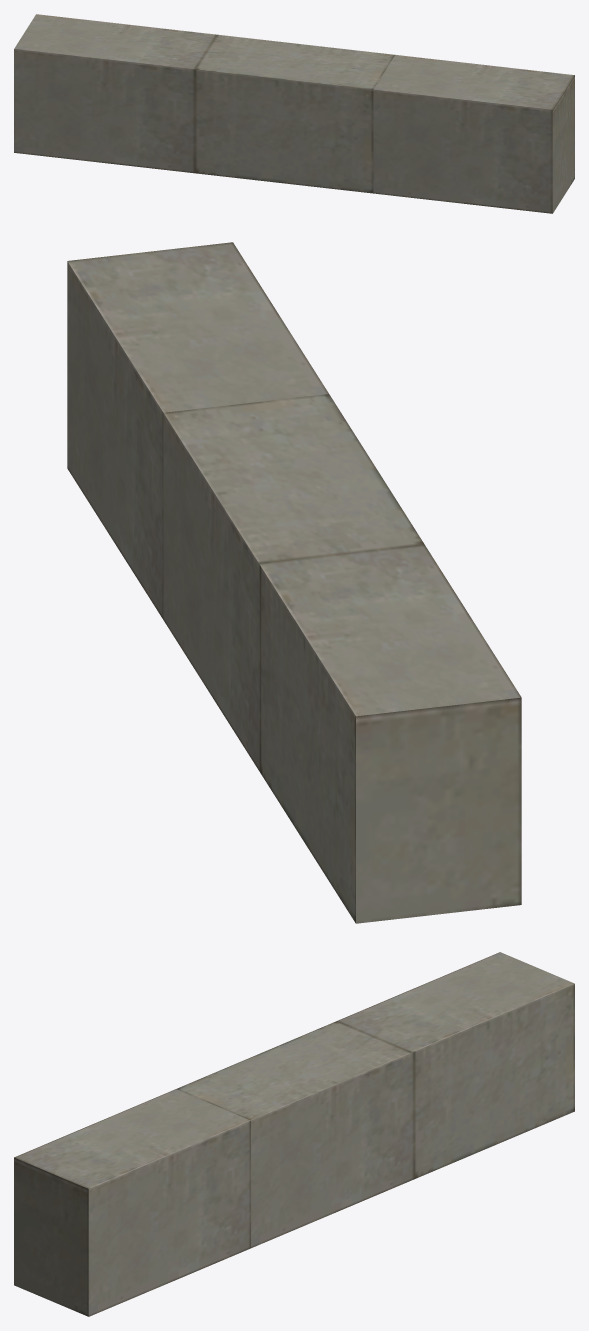
The picture shows the model from 3 angles, top to bottom: view 1: azimuth 30°, elevation 25°; view 2: azimuth 150°, elevation 25°; view 3: azimuth 270°, elevation 25°; orthographic projection. The views are drawn at different scales.
Visible parts, largest first — view 1: Joint_0_Object_0; view 2: Joint_0_Object_0; view 3: Joint_0_Object_0.
Part boxes in pixels (x1=…): Joint_0_Object_0: x1=14, y1=14, x2=574, y2=213; Joint_0_Object_0: x1=67, y1=242, x2=521, y2=923; Joint_0_Object_0: x1=14, y1=952, x2=574, y2=1316.
Size of the model in its own units: 1591 by 400 by 1591.
Materials: 1 (1 with a texture image).
